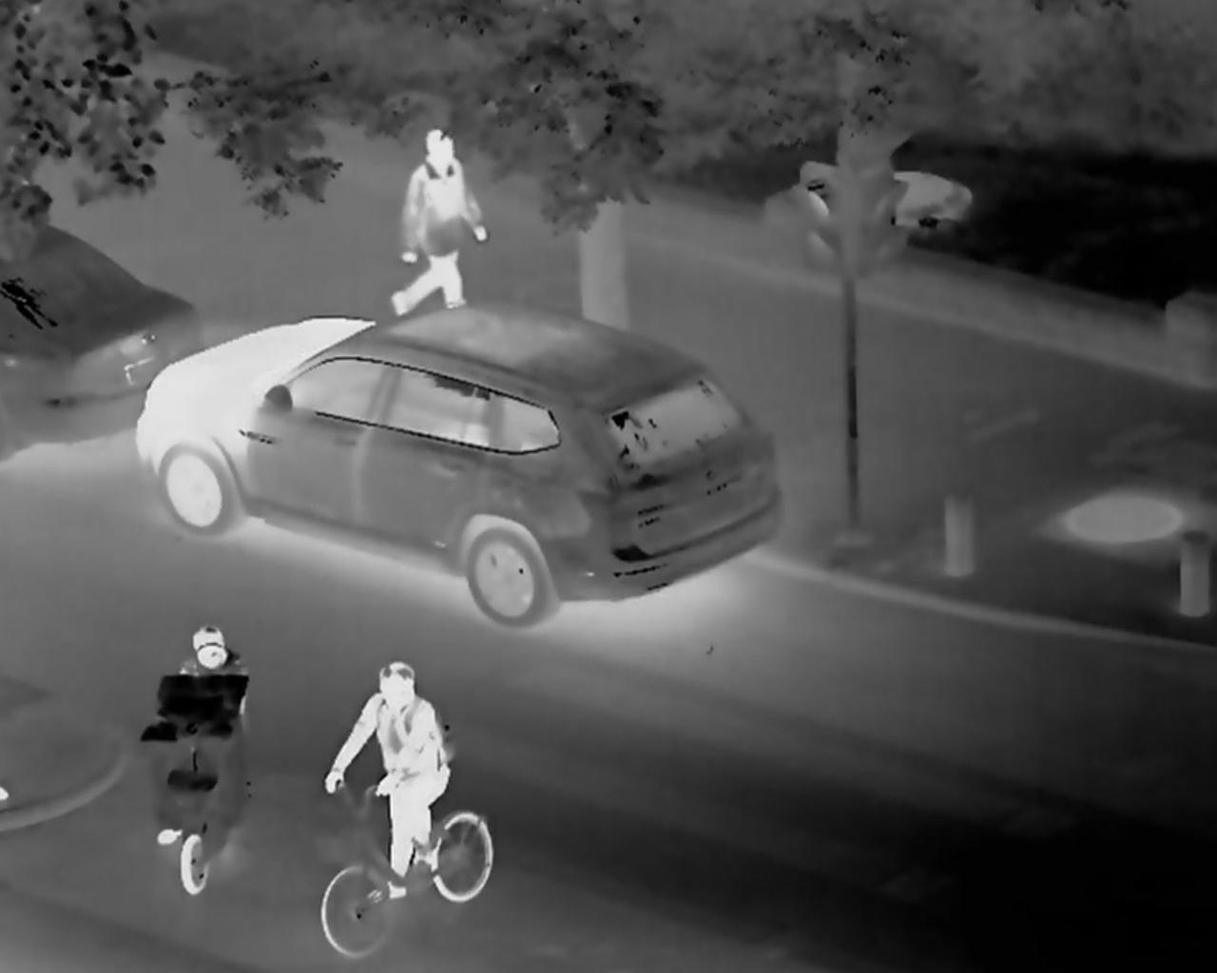person: (323, 654, 455, 900), (141, 615, 251, 845), (389, 126, 487, 313)
